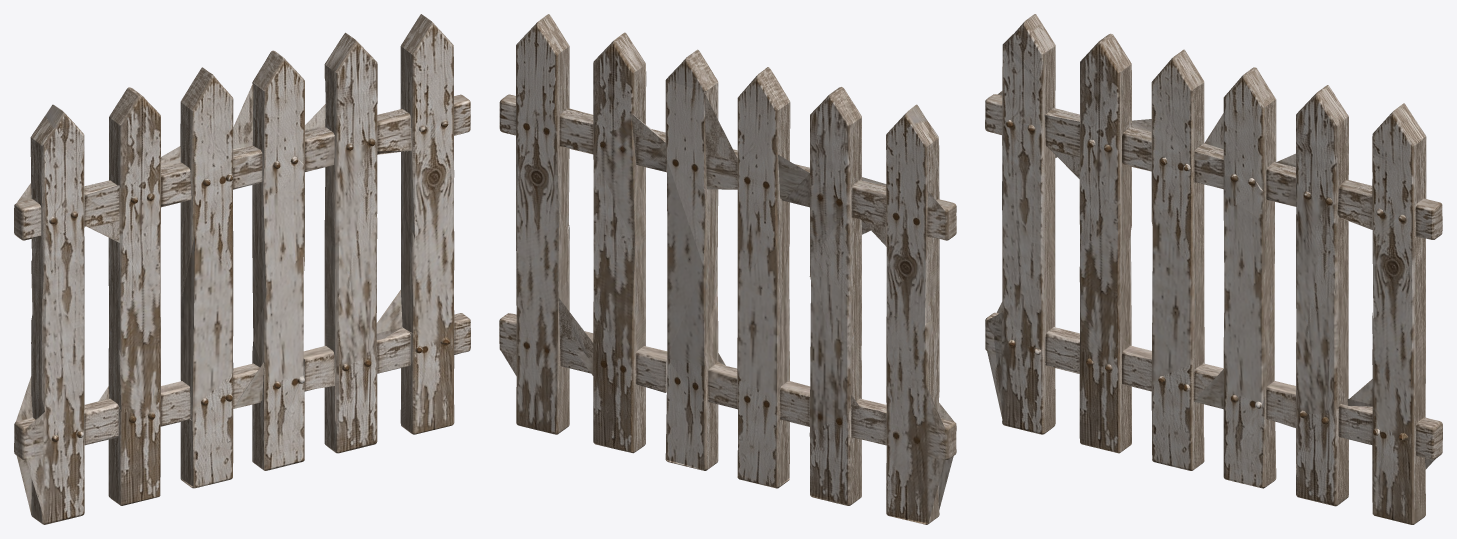
File: picket-fence.glb
3 renders of one model, left to right at view 1: azimuth 30°, elevation 25°; view 2: azimuth 150°, elevation 25°; view 3: azimuth 330°, elevation 25°, orthographic.
Visible parts, largest first — view 1: Mesh_0; view 2: Mesh_0; view 3: Mesh_0.
Part boxes in pixels (bbox=[...]): Mesh_0: bbox=[14, 14, 470, 524]; Mesh_0: bbox=[499, 14, 956, 524]; Mesh_0: bbox=[985, 14, 1442, 524].
Bounding box in the file's own units: 1.9 × 1.65 × 0.1242.
1 material, 1 textured.
